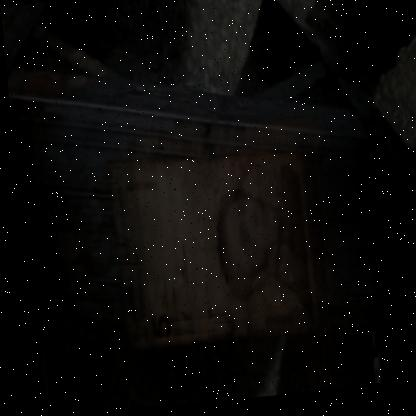five-front-vef: (101, 141, 333, 353)
